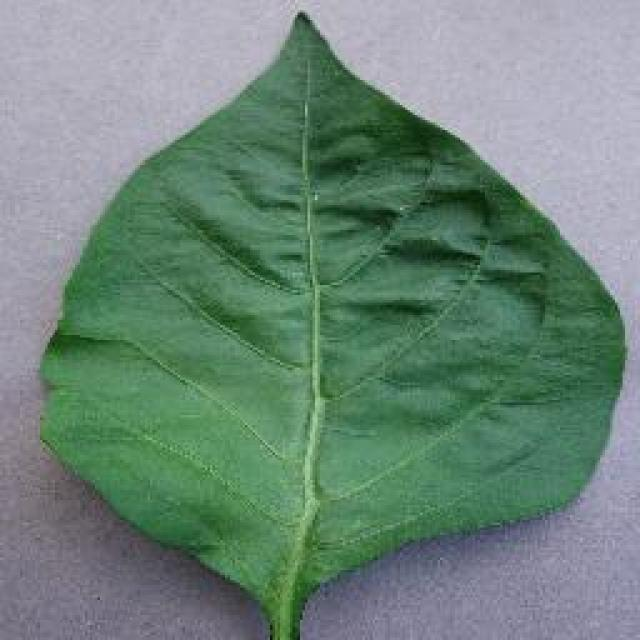Leaf: (40, 24, 624, 630)
